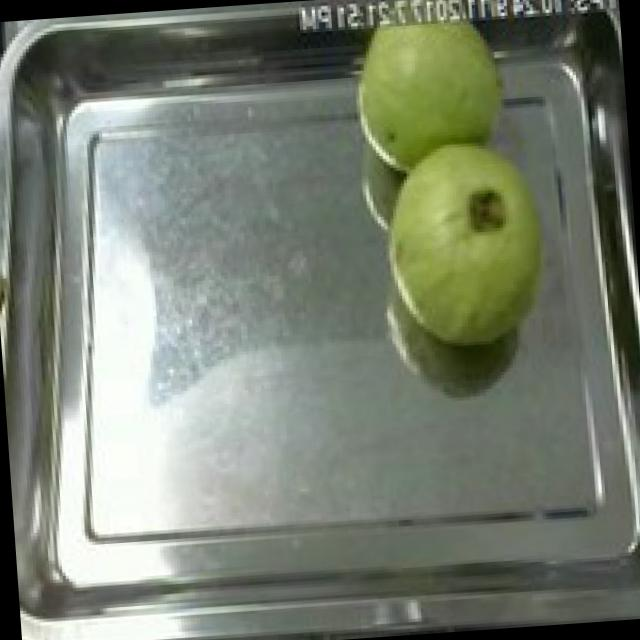Fruit: (368, 122, 570, 364), (336, 0, 527, 183)
